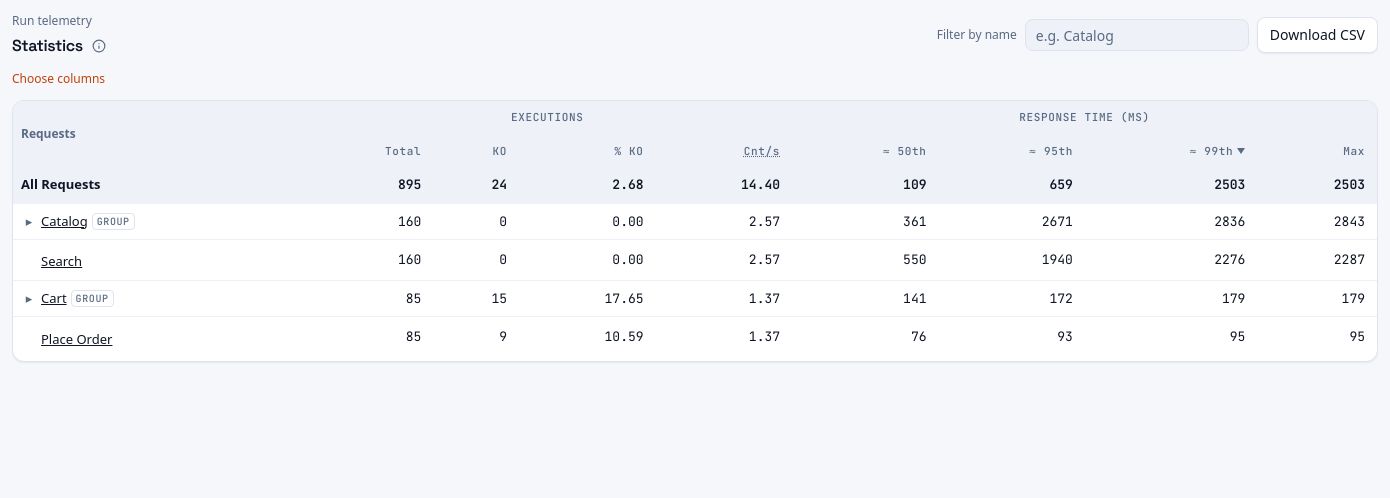
Test: StatisticsTable — expand and collapse (G-13, §9 checkpoint 4) › starts with groups collapsed
Expected: the text "Recommendations" is not shown
Click the button named "expand Catalog": x=29, y=221 x1=21 y1=212 x2=37 y2=231
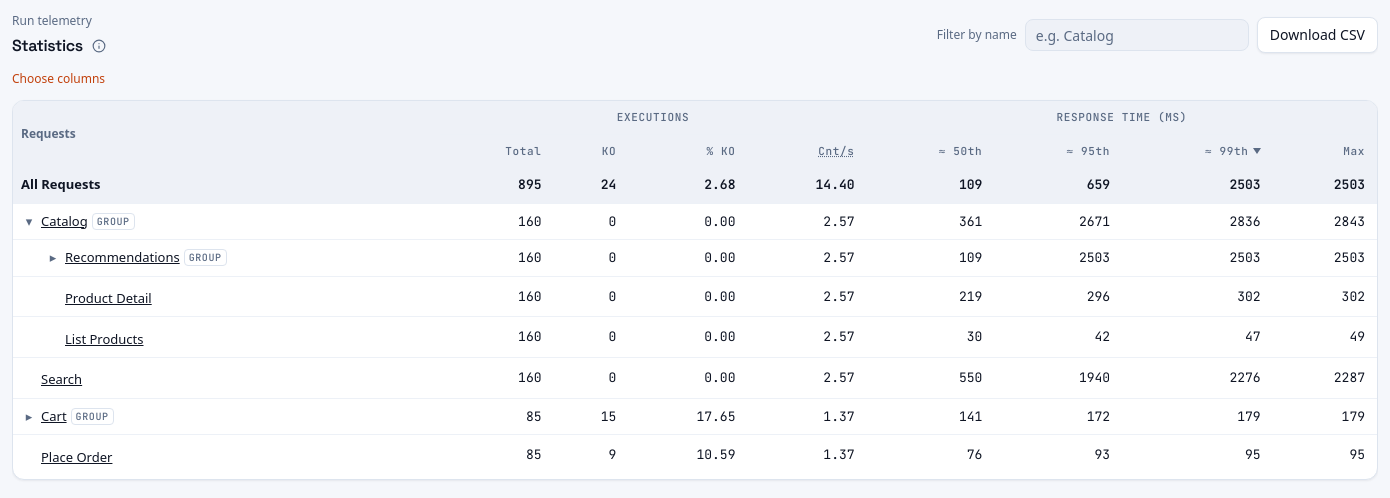
Expected: the link "Recommendations" is shown, x1=65 y1=248 x2=180 y2=268
